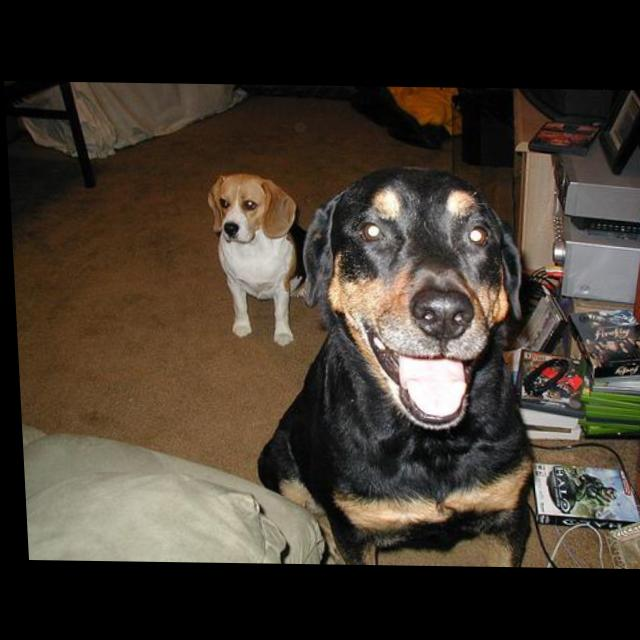other_dog_breed: (203, 173, 314, 348)
rottweiler: (239, 162, 552, 567)
